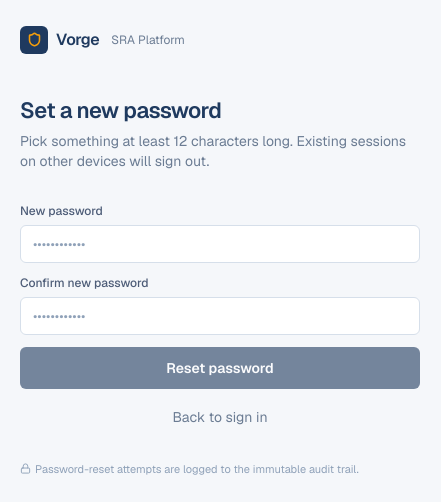
ResetPasswordPage › mismatched confirm keeps the submit button disabled
Type "ValidPassword12!" into the password field labelled "New password". click: (220, 244)
box: [20, 225, 420, 263]
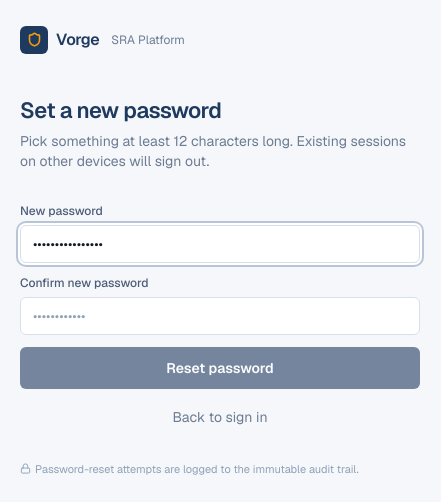
Type "DifferentPass45@" into the password field labelled "Confirm new password". click: (220, 316)
box: [20, 297, 420, 335]
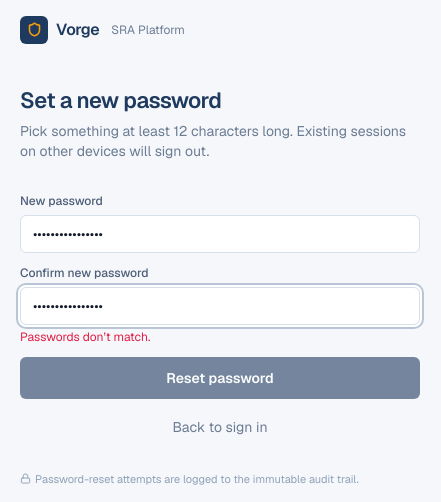
Check: the button "Reset password" is disabled, box [20, 357, 420, 399]
Check: the text "Passwords don’t match." is shown, box [20, 329, 150, 345]
